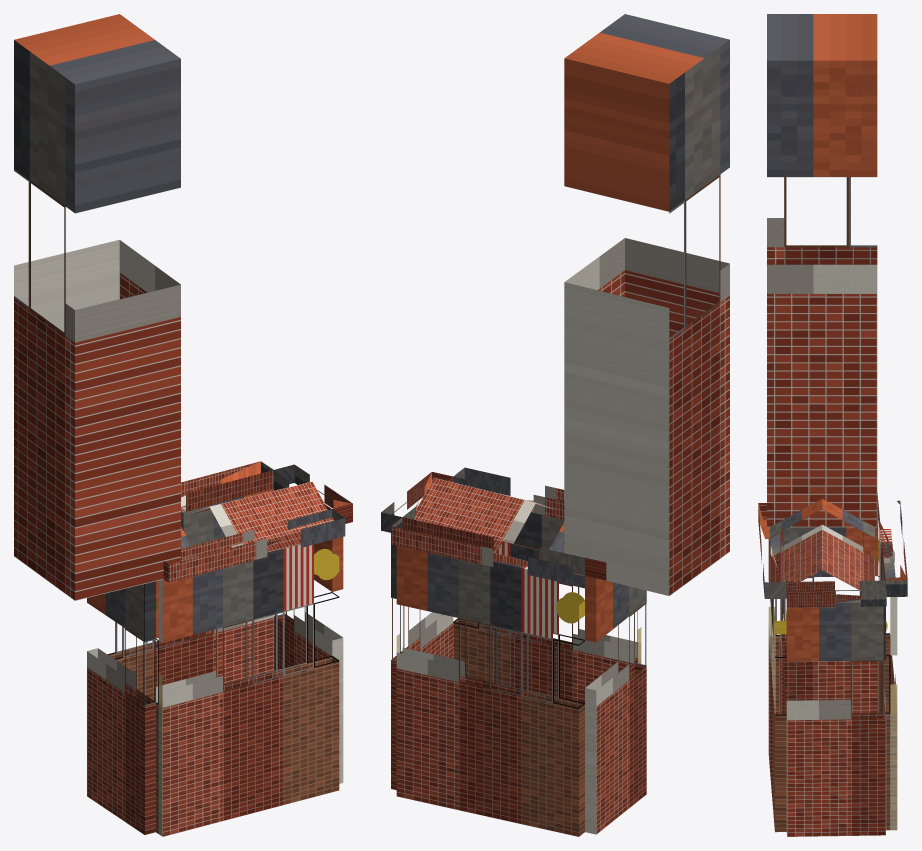
The picture shows the model from 3 angles, left to right: view 1: azimuth 30°, elevation 25°; view 2: azimuth 150°, elevation 25°; view 3: azimuth 270°, elevation 25°; orthographic projection. The views are drawn at different scales.
Parts seen in each view (by area): view 1: 1106973757__chimney_0_xb, 1106973757__wall_3_xb, 1106973757__wall_0_xb, 1106973757__wall_1_xb, 1106973757_roof_-1_xb, 1106973757__cornice_3, 1106973757__wall_2_xb, 1106973757__cornice_1, 1106973757__cornice_2; view 2: 1106973757__chimney_0_xb, 1106973757__wall_1_xb, 1106973757__wall_0_xb, 1106973757__wall_3_xb, 1106973757_roof_1_xb, 1106973757__cornice_1, 1106973757__wall_2_xb, 1106973757__cornice_3, 1106973757__cornice_2; view 3: 1106973757__chimney_0_xb, 1106973757__wall_2_xb, 1106973757__wall_0_xb, 1106973757__wall_3_xb, 1106973757__wall_1_xb, 1106973757_roof_-1_xb, 1106973757_roof_1_xb, 1106973757__cornice_2, 1106973757__cornice_1, 1106973757__cornice_3.
Boxes of the visible parts, x1,y1,x2,y2 form: 1106973757__chimney_0_xb: (14,14,180,600); 1106973757__wall_3_xb: (156,544,339,836); 1106973757__wall_0_xb: (87,581,155,834); 1106973757__wall_1_xb: (107,488,273,701); 1106973757_roof_-1_xb: (181,481,333,560); 1106973757__cornice_3: (163,509,345,582); 1106973757__wall_2_xb: (274,488,343,783); 1106973757__cornice_1: (181,461,273,512); 1106973757__cornice_2: (274,464,352,523); 1106973757__chimney_0_xb: (564,14,729,595); 1106973757__wall_1_xb: (396,546,584,836); 1106973757__wall_0_xb: (585,576,646,834); 1106973757__wall_3_xb: (453,511,641,702); 1106973757_roof_1_xb: (414,478,564,552); 1106973757__cornice_1: (391,517,584,584); 1106973757__wall_2_xb: (391,533,453,790); 1106973757__cornice_3: (453,467,564,519); 1106973757__cornice_2: (381,472,453,532); 1106973757__chimney_0_xb: (767,14,877,527); 1106973757__wall_2_xb: (786,600,885,836); 1106973757__wall_0_xb: (780,518,878,713); 1106973757__wall_3_xb: (768,527,786,832); 1106973757__wall_1_xb: (878,529,897,830); 1106973757_roof_-1_xb: (769,499,822,587); 1106973757_roof_1_xb: (822,499,874,590); 1106973757__cornice_2: (786,580,886,607); 1106973757__cornice_1: (878,500,907,596); 1106973757__cornice_3: (758,503,786,598).
Bounding box in the file's own units: 0.4102 × 1.05 × 0.2032.
Materials: 1 (1 with a texture image).
